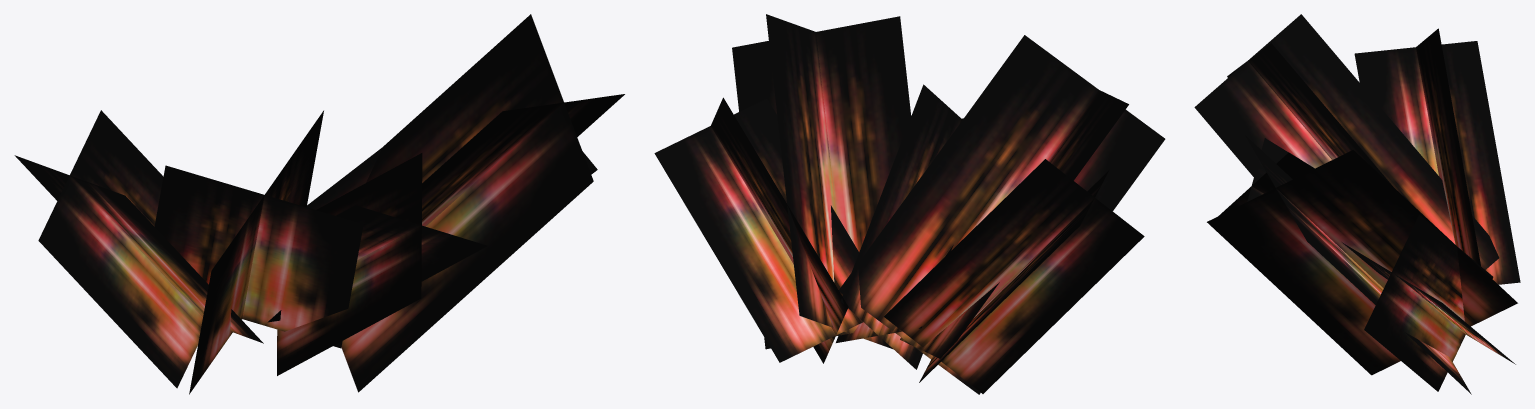
The model's file is fx_fbx_skill_npc_2051_3.FBX.
The picture shows the model from 3 angles, left to right: view 1: azimuth 30°, elevation 25°; view 2: azimuth 150°, elevation 25°; view 3: azimuth 270°, elevation 25°; orthographic projection. The views are drawn at different scales.
Visible parts, largest first — view 1: Plane011; view 2: Plane011; view 3: Plane011.
Boxes of the visible parts, x1,y1,x2,y2 form: Plane011: (14, 14, 624, 394); Plane011: (654, 14, 1165, 394); Plane011: (1194, 14, 1520, 394).
Bounding box in the file's own units: 419 × 257 × 256.
1 material, 1 textured.
